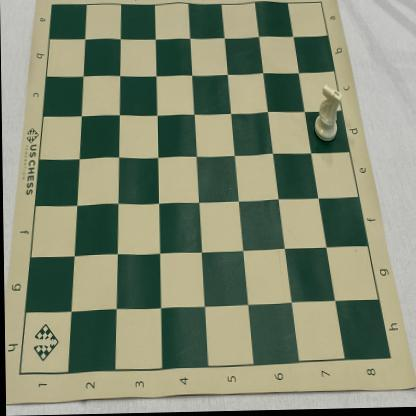white-knight: (313, 85, 341, 145)
